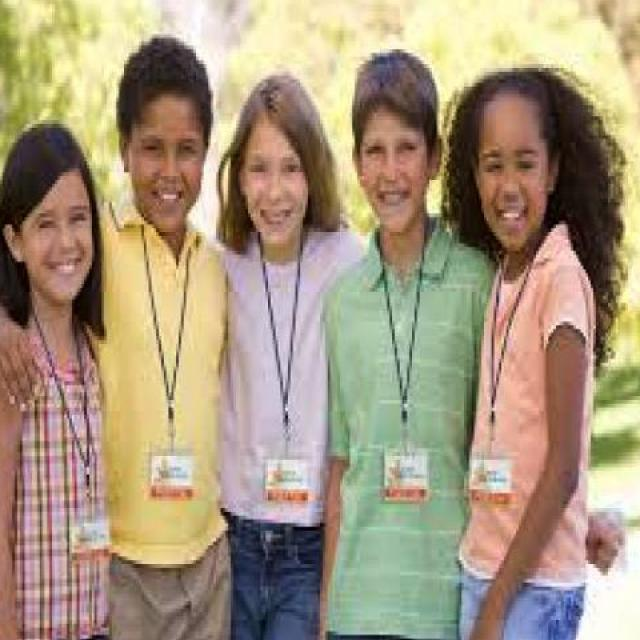ID_card: (28, 282, 121, 554), (237, 244, 323, 494), (368, 239, 444, 498), (137, 250, 198, 501), (461, 280, 517, 508)
